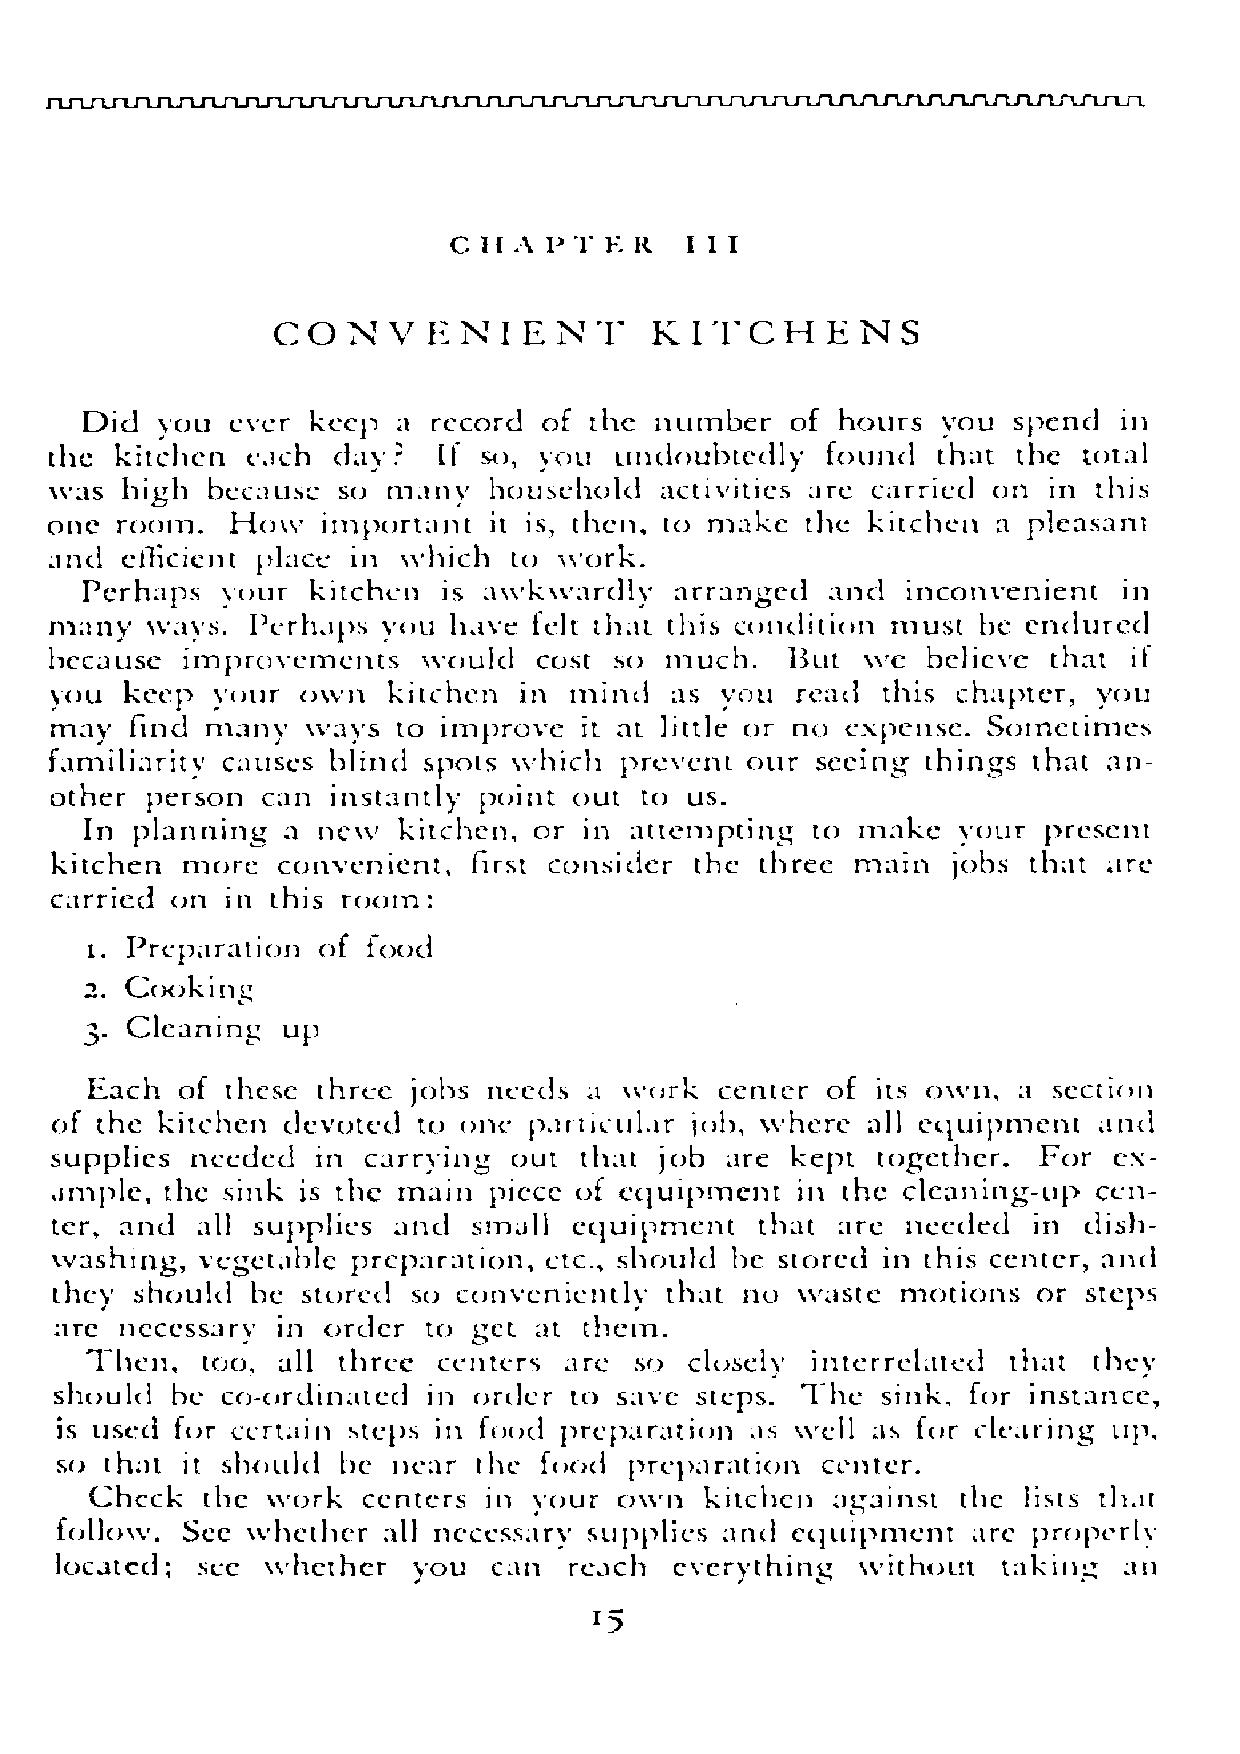chapter: (268, 229, 919, 349)
content: (44, 405, 1159, 1585)
content_pagenumber: (586, 1605, 625, 1635)
